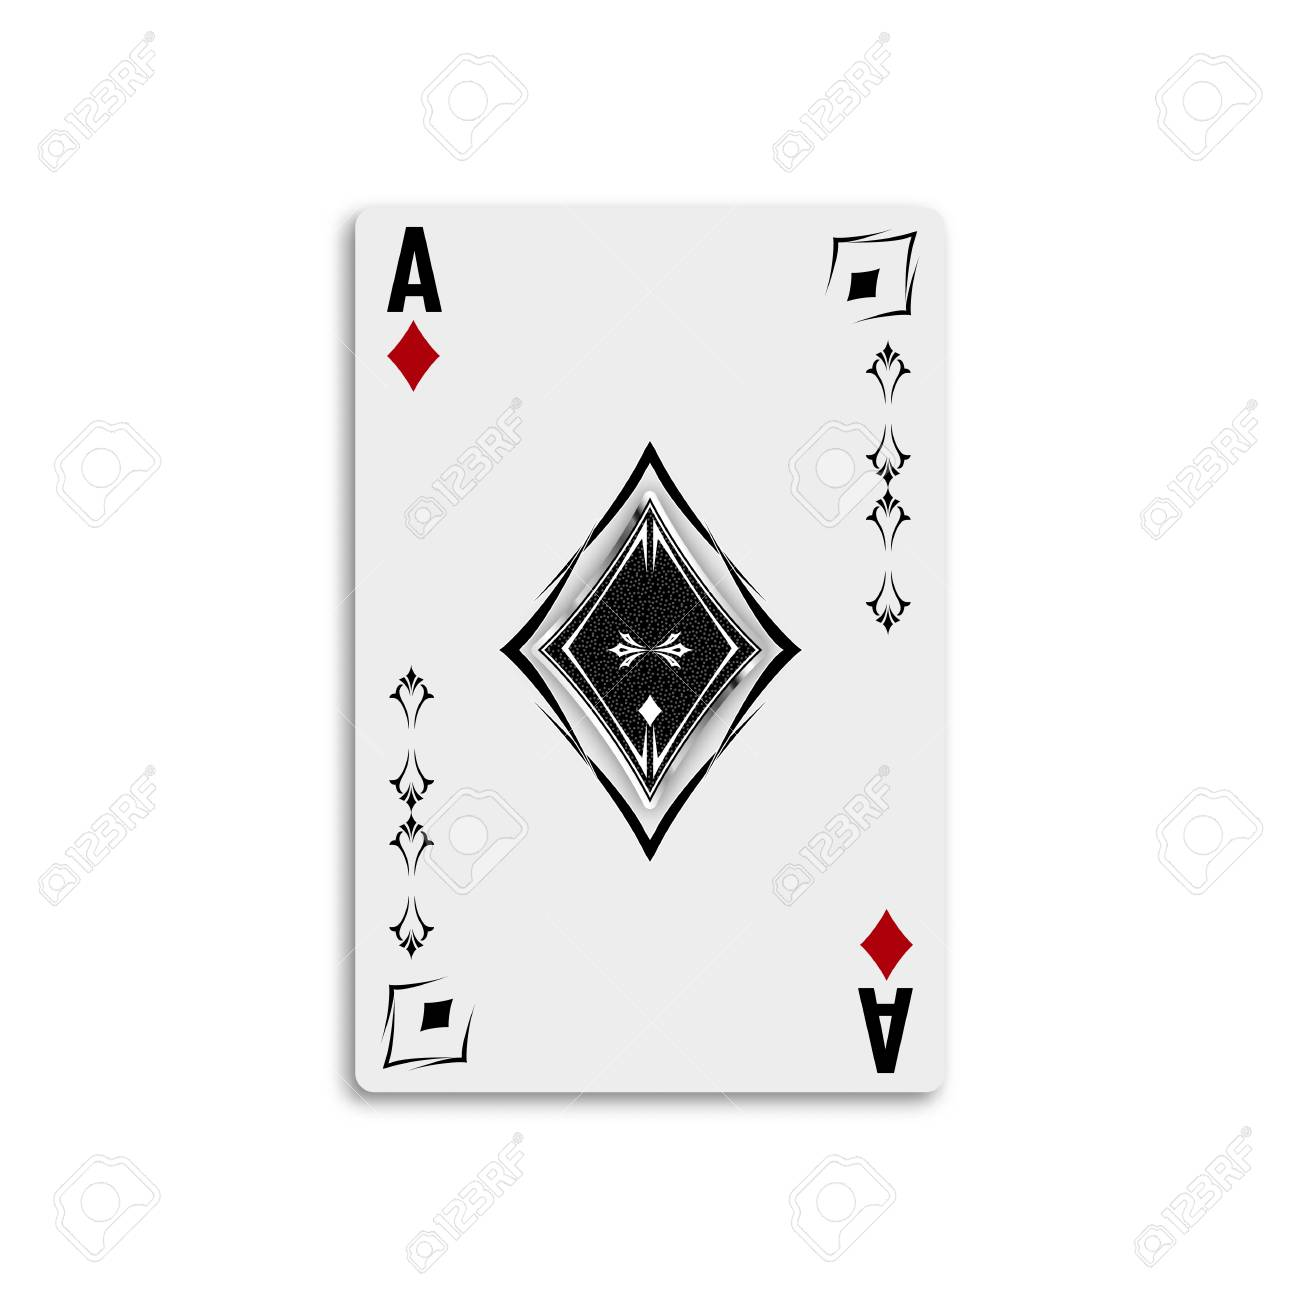ace of diamonds: (352, 200, 952, 1096)
